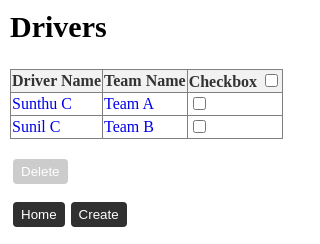
Test: GenericList › selects and deselects all checkboxes
Check: the link "Team A" is shown, box [104,95,154,112]
Click the checkbox next to "Checkbox" at (272, 80), box [265,74,278,87]
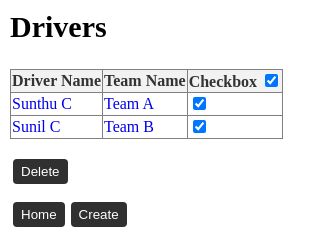
Check: the checkbox in the row of "Sunthu" is checked, box [193,97,206,110]
Click the checkbox next to "Checkbox" at (272, 80), box [265,74,278,87]
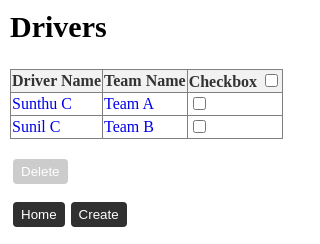
Check: the checkbox in the row of "Sunthu" is not checked, box [193,97,206,110]
